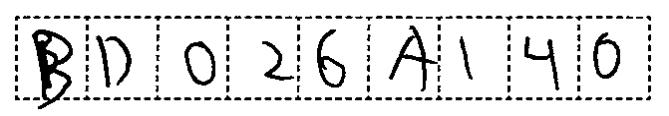0: (178, 34, 221, 90), (585, 28, 626, 82)
1: (448, 33, 484, 84)
2: (252, 36, 296, 85)
4: (515, 30, 568, 92)
6: (311, 26, 354, 92)
A: (388, 21, 435, 92)
B: (28, 24, 75, 96)
D: (92, 29, 139, 92)
